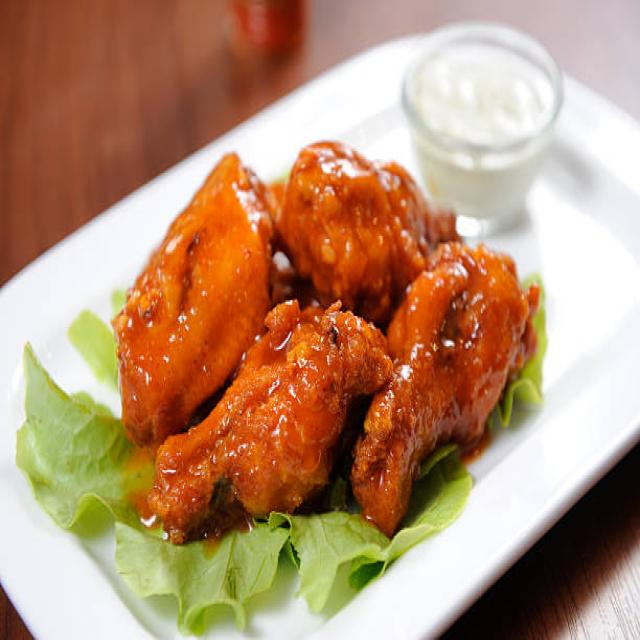Frango: (114, 132, 542, 554)
